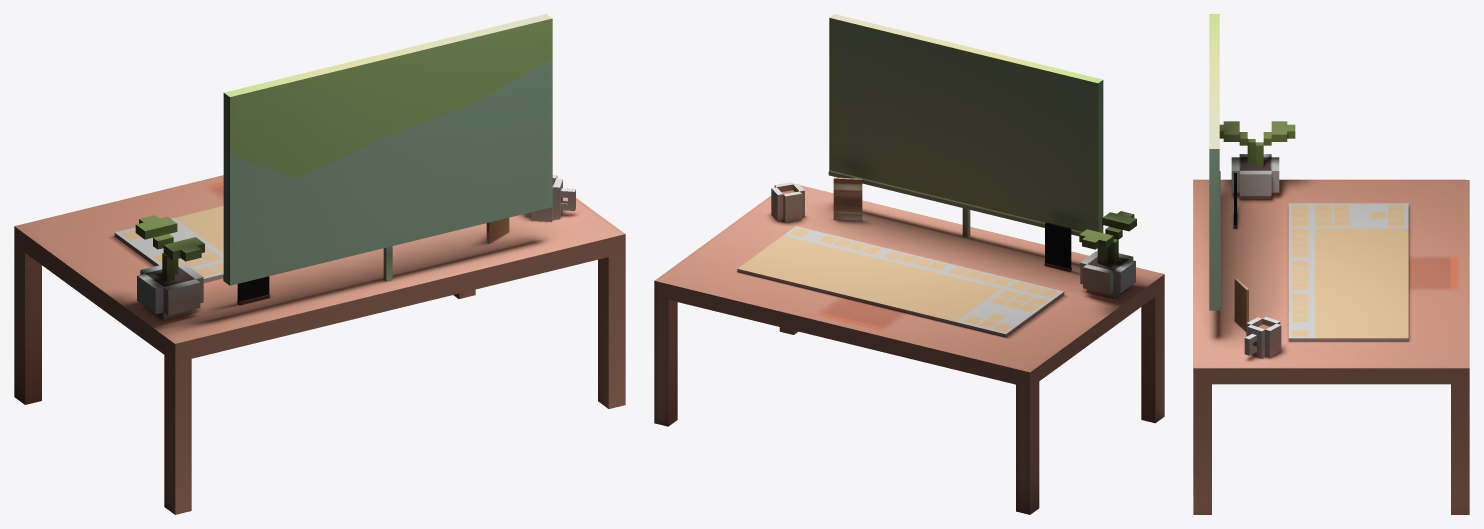
3 renders of one model, left to right at view 1: azimuth 30°, elevation 25°; view 2: azimuth 150°, elevation 25°; view 3: azimuth 270°, elevation 25°, orthographic. The views are drawn at different scales.
Visible parts, largest first — view 1: Main, Tree, Keyboard, Cafe; view 2: Main, Keyboard, Tree, Cafe; view 3: Main, Keyboard, Tree, Cafe.
Boxes of the visible parts, x1=… form: Main: x1=14, y1=14, x2=625, y2=514; Tree: x1=135, y1=215, x2=204, y2=320; Keyboard: x1=114, y1=206, x2=223, y2=282; Cafe: x1=525, y1=175, x2=575, y2=221; Main: x1=654, y1=14, x2=1164, y2=514; Keyboard: x1=737, y1=226, x2=1064, y2=337; Tree: x1=1079, y1=211, x2=1136, y2=298; Cafe: x1=771, y1=182, x2=804, y2=222; Main: x1=1193, y1=14, x2=1469, y2=514; Keyboard: x1=1288, y1=203, x2=1408, y2=341; Tree: x1=1219, y1=121, x2=1295, y2=199; Cafe: x1=1244, y1=316, x2=1281, y2=358.
Size of what is drawn, in the model's own units: 4.62 by 3.88 by 2.86.
Materials: 4 (4 with a texture image).
